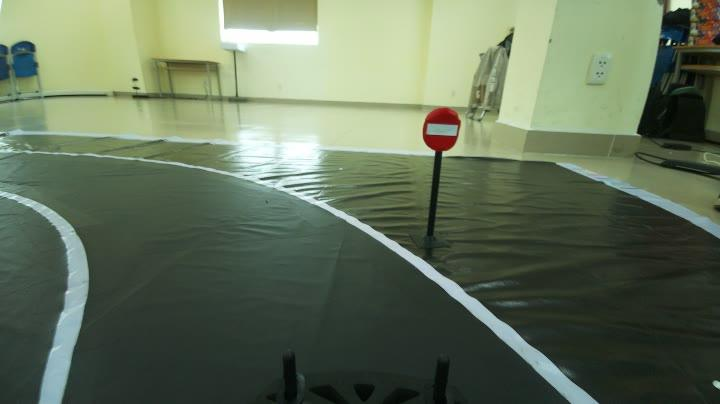no_entry: (417, 104, 464, 150)
